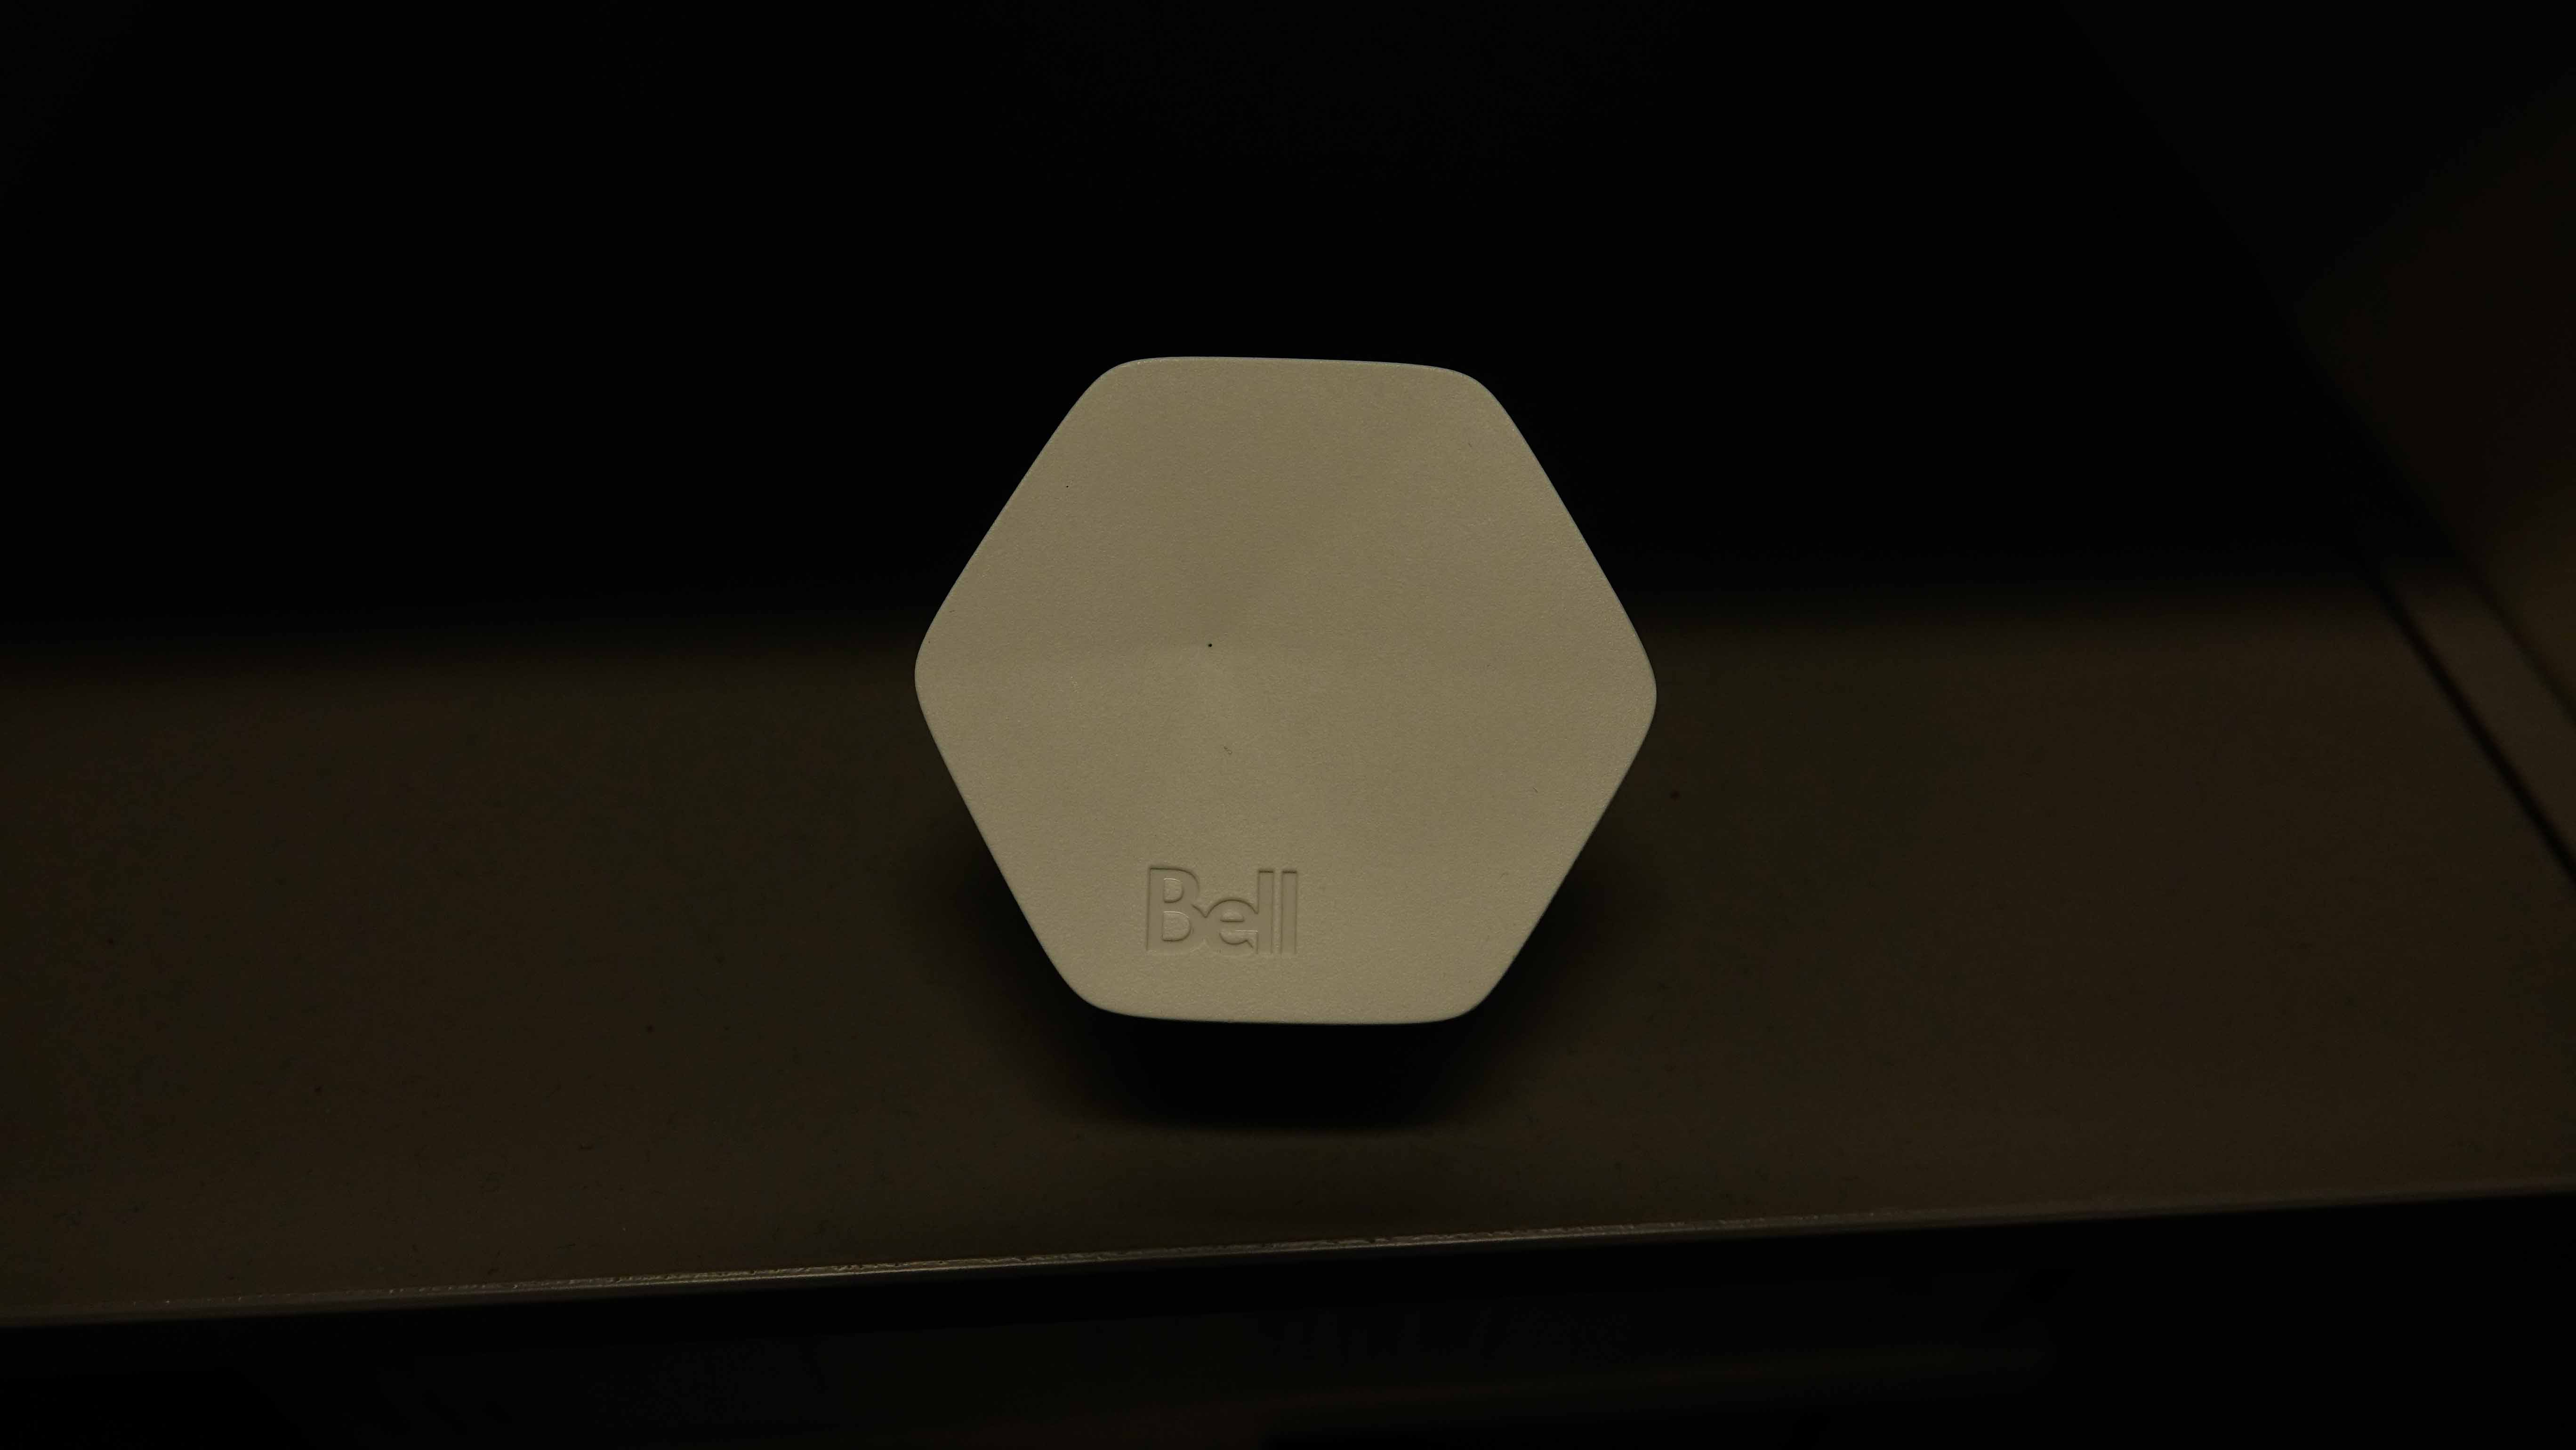pod: (908, 350, 1670, 1050)
